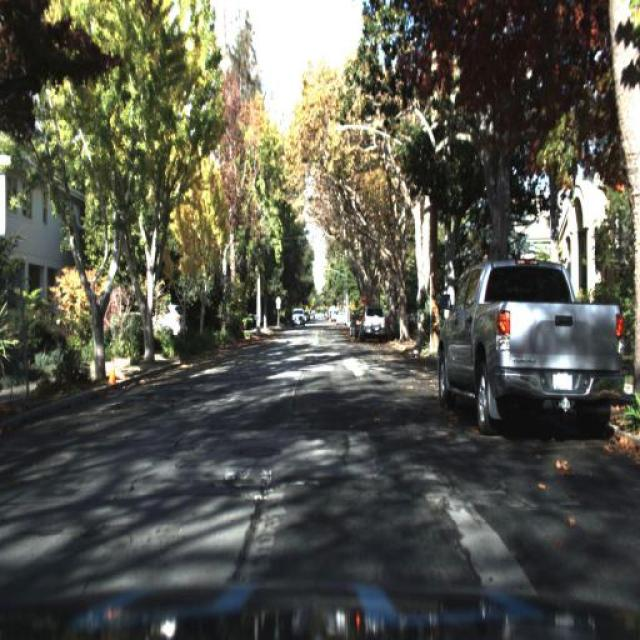car: (437, 256, 626, 438), (152, 298, 186, 341), (359, 306, 386, 338), (346, 317, 362, 337)
